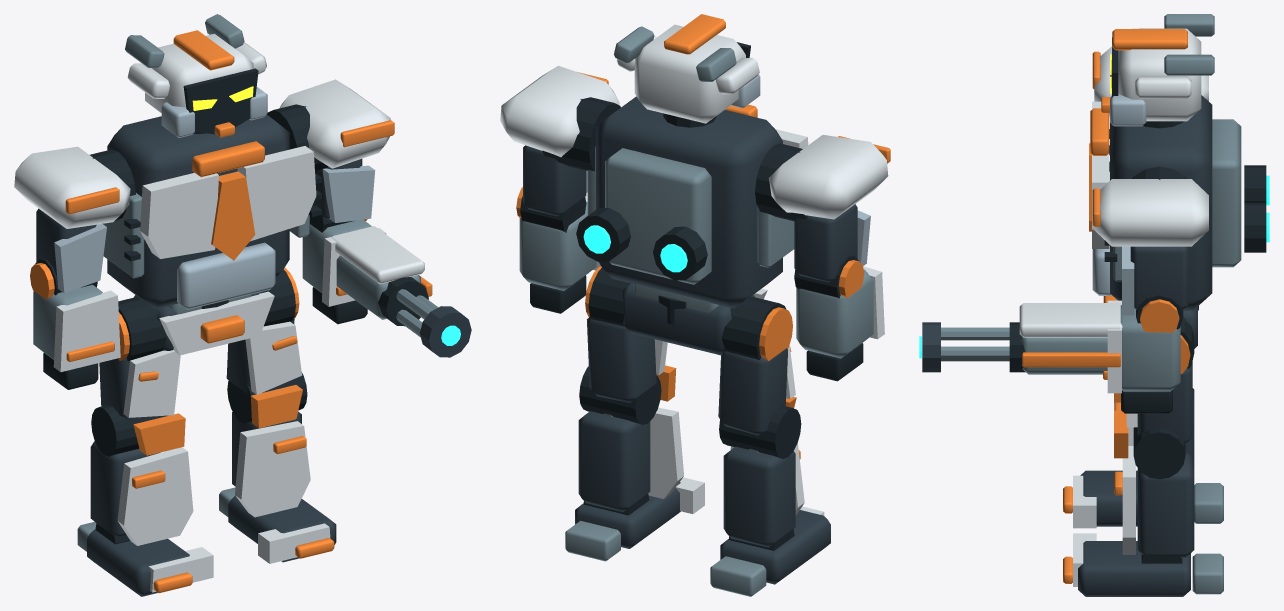
The model's file is striker_full.glb.
3 views of the same model, side by side, from view 1: azimuth 30°, elevation 25°; view 2: azimuth 150°, elevation 25°; view 3: azimuth 270°, elevation 25° (orthographic). The views are drawn at different scales.
Visible parts, largest first — view 1: VISUAL | torso_arms | Striker | ceramic white, VISUAL | legs | Striker | ceramic white, VISUAL | legs | Striker | graphite frame, VISUAL | torso_arms | Striker | graphite frame, VISUAL | torso_arms | Striker | shaded white, VISUAL | torso_arms | Striker | safety orange, VISUAL | legs | Striker | safety orange, VISUAL | legs | Striker | black rubber, VISUAL | torso_arms | Striker | brushed steel, VISUAL | torso_arms | Striker | black rubber, VISUAL | head | Striker | ceramic white, WEAPON | white upper shroud (+8 smaller); view 2: VISUAL | legs | Striker | graphite frame, VISUAL | torso_arms | Striker | graphite frame, VISUAL | torso_arms | Striker | brushed steel, VISUAL | torso_arms | Striker | ceramic white, VISUAL | torso_arms | Striker | black rubber, VISUAL | legs | Striker | black rubber, VISUAL | head | Striker | ceramic white, VISUAL | legs | Striker | ceramic white, VISUAL | legs | Striker | brushed steel, VISUAL | legs | Striker | safety orange, VISUAL | head | Striker | brushed steel, VISUAL | head | Striker | safety orange (+4 smaller); view 3: VISUAL | legs | Striker | graphite frame, VISUAL | torso_arms | Striker | graphite frame, VISUAL | torso_arms | Striker | ceramic white, VISUAL | torso_arms | Striker | brushed steel, VISUAL | head | Striker | ceramic white, VISUAL | torso_arms | Striker | black rubber, VISUAL | weapon | Striker | brushed steel, WEAPON | white upper shroud, VISUAL | legs | Striker | ceramic white, VISUAL | legs | Striker | black rubber, VISUAL | torso_arms | Striker | safety orange, VISUAL | legs | Striker | brushed steel (+9 smaller).
Boxes of the visible parts, bbox=[...] form: VISUAL | torso_arms | Striker | ceramic white: bbox=[14, 79, 390, 372]; VISUAL | legs | Striker | ceramic white: bbox=[117, 291, 330, 592]; VISUAL | legs | Striker | graphite frame: bbox=[87, 291, 336, 596]; VISUAL | torso_arms | Striker | graphite frame: bbox=[36, 114, 362, 308]; VISUAL | torso_arms | Striker | shaded white: bbox=[54, 165, 375, 309]; VISUAL | torso_arms | Striker | safety orange: bbox=[30, 120, 394, 362]; VISUAL | legs | Striker | safety orange: bbox=[118, 267, 334, 593]; VISUAL | legs | Striker | black rubber: bbox=[91, 269, 307, 544]; VISUAL | torso_arms | Striker | brushed steel: bbox=[33, 193, 371, 359]; VISUAL | torso_arms | Striker | black rubber: bbox=[35, 104, 367, 389]; VISUAL | head | Striker | ceramic white: bbox=[127, 33, 266, 113]; WEAPON | white upper shroud: bbox=[331, 226, 424, 284]; VISUAL | legs | Striker | graphite frame: bbox=[575, 283, 830, 584]; VISUAL | torso_arms | Striker | graphite frame: bbox=[523, 96, 857, 308]; VISUAL | torso_arms | Striker | brushed steel: bbox=[519, 146, 873, 358]; VISUAL | torso_arms | Striker | ceramic white: bbox=[500, 65, 888, 339]; VISUAL | torso_arms | Striker | black rubber: bbox=[520, 97, 863, 381]; VISUAL | legs | Striker | black rubber: bbox=[579, 268, 801, 550]; VISUAL | head | Striker | ceramic white: bbox=[616, 24, 759, 123]; VISUAL | legs | Striker | ceramic white: bbox=[648, 288, 824, 515]; VISUAL | legs | Striker | brushed steel: bbox=[565, 413, 766, 596]; VISUAL | legs | Striker | safety orange: bbox=[585, 266, 800, 459]; VISUAL | head | Striker | brushed steel: bbox=[613, 26, 736, 81]; VISUAL | head | Striker | safety orange: bbox=[664, 14, 725, 54]; VISUAL | legs | Striker | graphite frame: bbox=[1078, 306, 1197, 596]; VISUAL | torso_arms | Striker | graphite frame: bbox=[1110, 95, 1212, 310]; VISUAL | torso_arms | Striker | ceramic white: bbox=[1092, 46, 1208, 393]; VISUAL | torso_arms | Striker | brushed steel: bbox=[1113, 119, 1241, 391]; VISUAL | head | Striker | ceramic white: bbox=[1118, 28, 1201, 121]; VISUAL | torso_arms | Striker | black rubber: bbox=[1104, 129, 1266, 413]; VISUAL | weapon | Striker | brushed steel: bbox=[941, 327, 1107, 374]; WEAPON | white upper shroud: bbox=[1019, 303, 1122, 337]; VISUAL | legs | Striker | ceramic white: bbox=[1073, 300, 1137, 586]; VISUAL | legs | Striker | black rubber: bbox=[1133, 317, 1194, 563]; VISUAL | torso_arms | Striker | safety orange: bbox=[1089, 51, 1179, 379]; VISUAL | legs | Striker | brushed steel: bbox=[1192, 483, 1223, 594].
Bounding box in the file's own units: 2.54 × 3.62 × 2.23.
